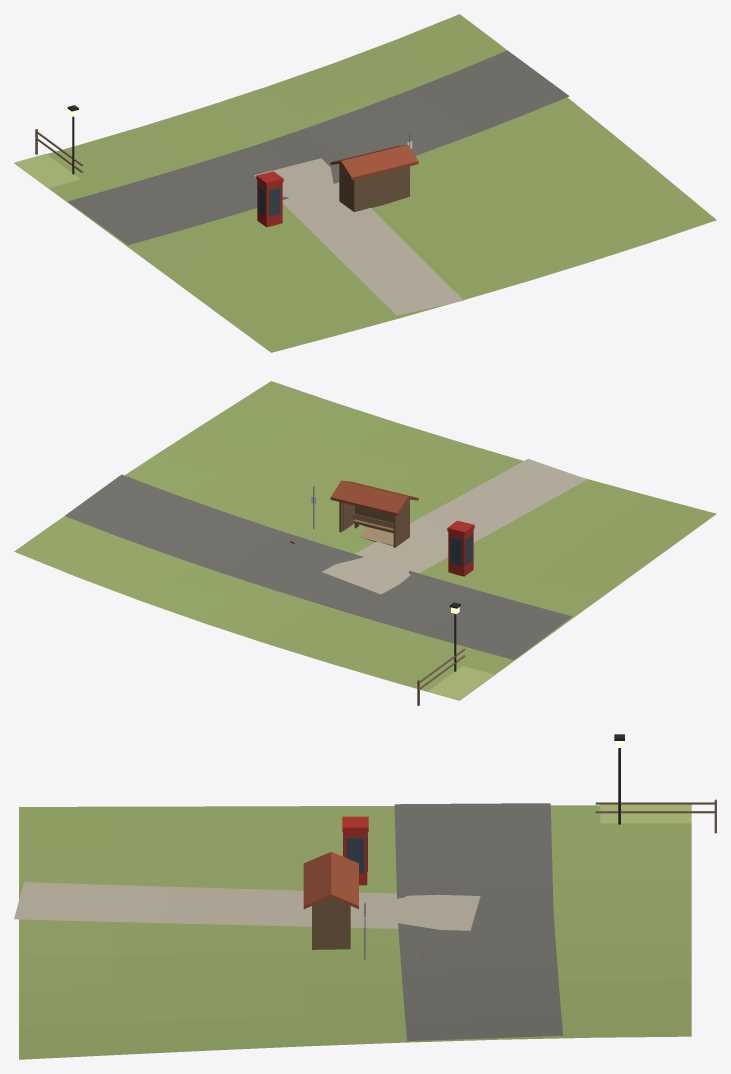
Rendered from bus_stop-morning.glb.
3 renders of one model, top to bottom at view 1: azimuth 30°, elevation 25°; view 2: azimuth 150°, elevation 25°; view 3: azimuth 270°, elevation 25°, orthographic. The views are drawn at different scales.
Parts seen in each view (by area): view 1: ground, ground_lanes, bus_shelter_shell, cut_roof_bus_shelter, prop_phonebox, ground_areas; view 2: ground, ground_lanes, cut_roof_bus_shelter, bus_shelter_shell, prop_phonebox, ground_areas; view 3: ground, ground_lanes, cut_roof_bus_shelter, bus_shelter_shell, ground_areas, prop_phonebox, boundaries.
Part boxes in pixels (x1,y1,x2,y2): ground: [14, 14, 716, 352]; ground_lanes: [67, 50, 569, 315]; bus_shelter_shell: [339, 163, 409, 211]; cut_roof_bus_shelter: [330, 145, 418, 180]; prop_phonebox: [256, 171, 283, 227]; ground_areas: [14, 154, 80, 187]; ground: [14, 381, 716, 700]; ground_lanes: [65, 459, 586, 659]; cut_roof_bus_shelter: [330, 480, 418, 515]; bus_shelter_shell: [339, 499, 409, 547]; prop_phonebox: [447, 520, 474, 576]; ground_areas: [428, 666, 493, 699]; ground: [19, 805, 691, 1059]; ground_lanes: [14, 803, 562, 1040]; cut_roof_bus_shelter: [303, 851, 358, 909]; bus_shelter_shell: [312, 897, 350, 949]; ground_areas: [600, 804, 691, 823]; prop_phonebox: [342, 816, 368, 885]; boundaries: [595, 799, 716, 833].
Bounding box in the file's own units: 28.11 × 4.43 × 29.26.
